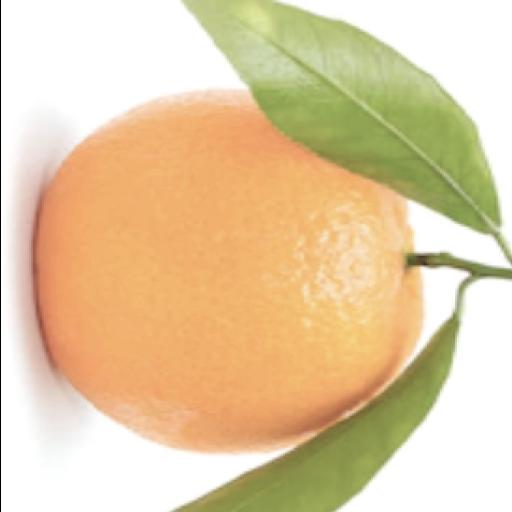orange: (34, 91, 420, 451)
